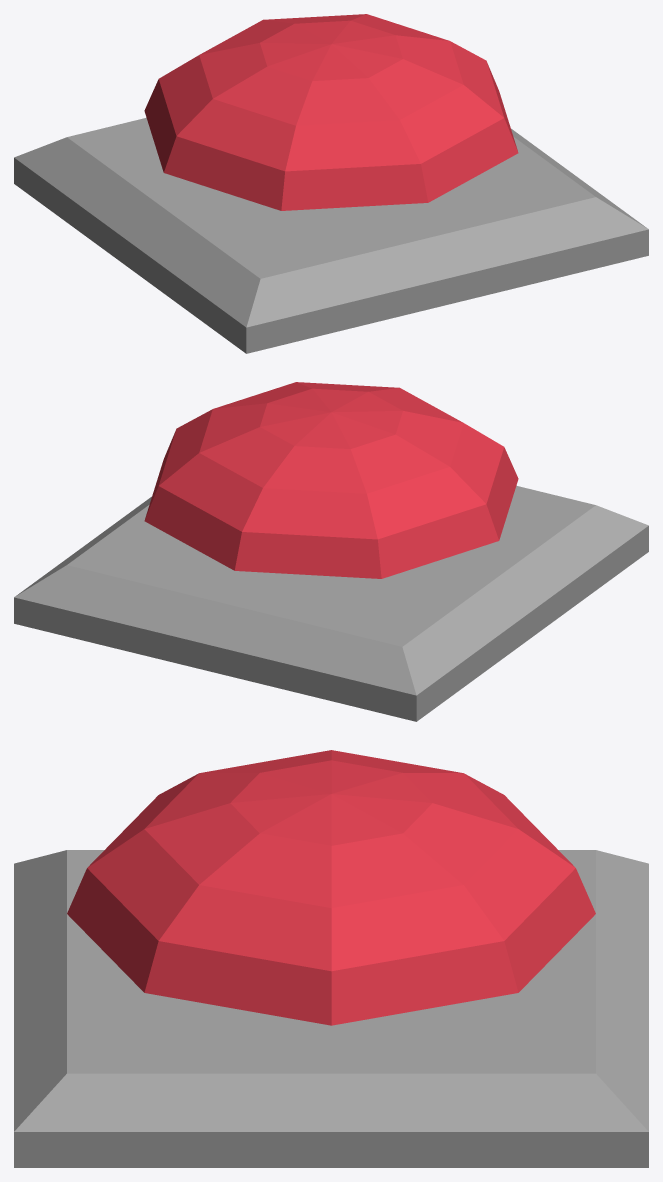
File: Big_Button_B_512.fbx
3 views of the same model, one above another, from view 1: azimuth 30°, elevation 25°; view 2: azimuth 150°, elevation 25°; view 3: azimuth 270°, elevation 25° (orthographic). The views are drawn at different scales.
Visible parts, largest first — view 1: Base, Button; view 2: Base, Button; view 3: Base, Button.
Boxes of the visible parts, x1,y1,x2,y2 form: Base: (14,117,648,353); Button: (144,14,518,210); Base: (14,485,648,721); Button: (144,382,518,578); Base: (14,850,648,1167); Button: (67,750,595,1025).
Size of the model in its own units: 240 by 100 by 240.
